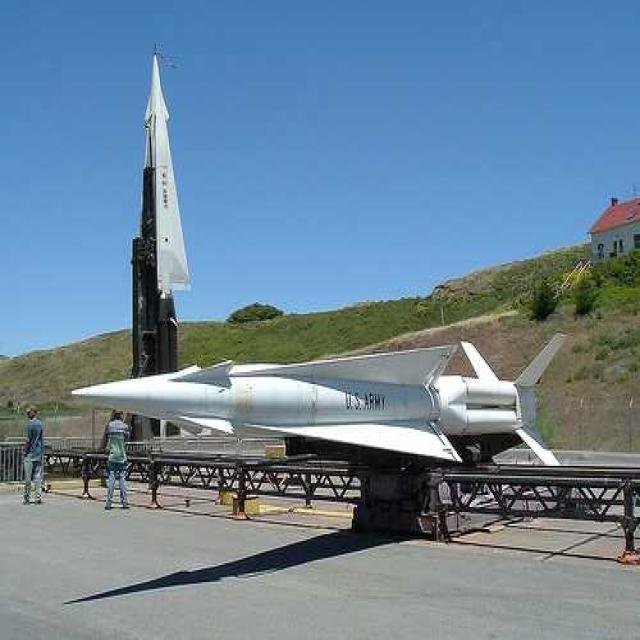missile: (70, 335, 566, 475), (141, 40, 192, 295)
